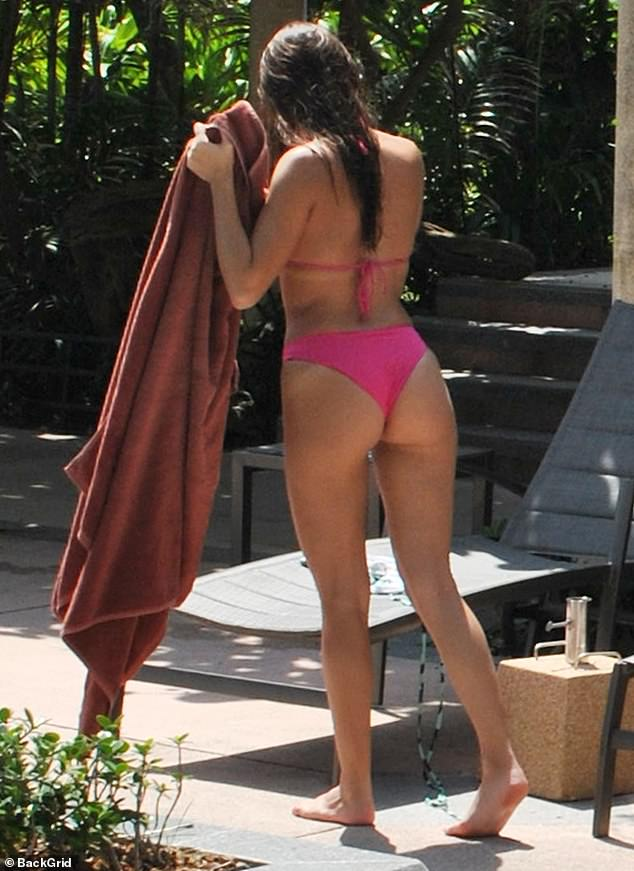Person: (90, 20, 578, 847)
